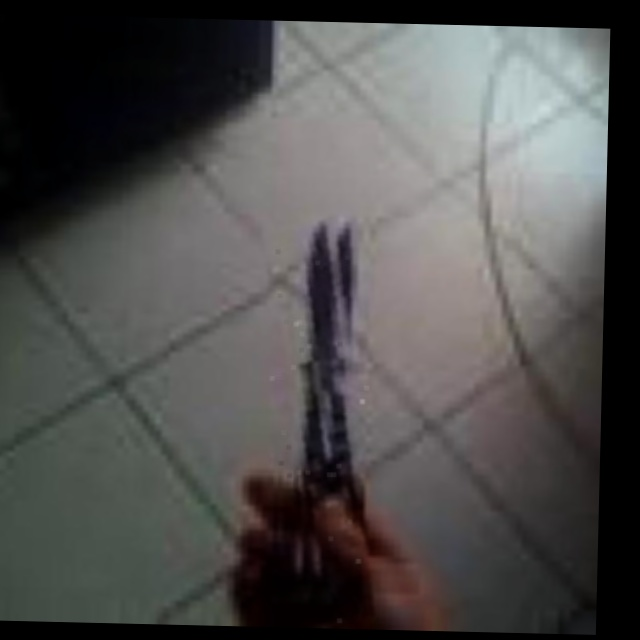Sharp-Object: (265, 220, 371, 625)
